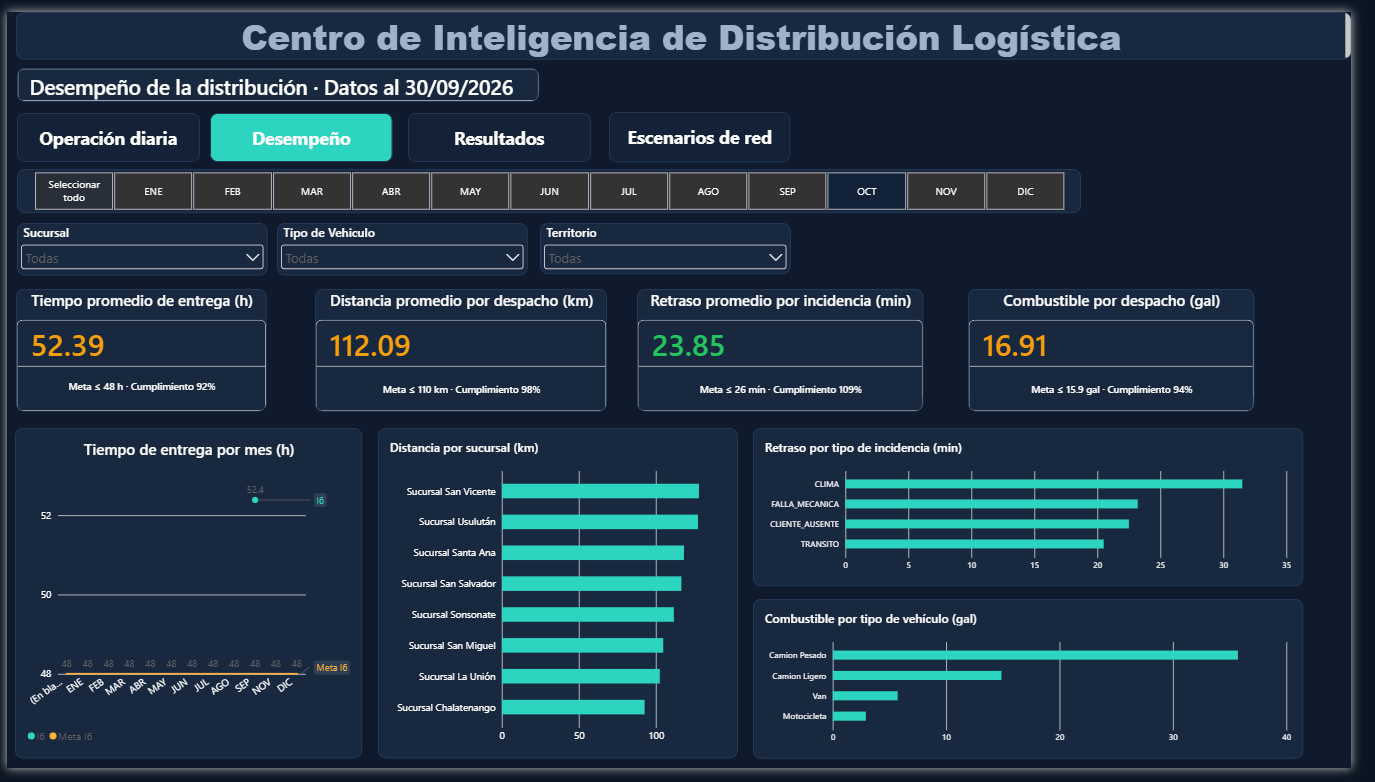

The dashboard page shown, as its layout file describes it:
{"tool":"powerbi","page":{"name":"Desempeño","canvas":[1920,1080],"ordinal":1},"visuals":[{"type":"textbox","box":[12.7,0,1907.9,68.3],"z":0},{"type":"actionButton","box":[14.6,143.6,260.7,70.5],"z":1000},{"type":"actionButton","box":[290,143.6,260.7,70.5],"z":2000},{"type":"actionButton","box":[573.3,143.6,260.7,70.5],"z":3000},{"type":"actionButton","box":[860.5,142.3,259.4,71.8],"z":4000},{"type":"slicer","fields":{"Values":["Meses.Nombre"]},"box":[14.6,224.8,1520.2,62.5],"z":5000},{"type":"cardVisual","fields":{"Data":["Medidas.Subtitulo Desempeño"]},"box":[14,80,746,48],"z":6000},{"type":"slicer","fields":{"Values":["dw_dim_sucursal.nombre"]},"box":[14.6,301.9,358.3,75],"z":7000},{"type":"slicer","fields":{"Values":["dw_dim_vehiculo.tipo"]},"box":[385.7,301.9,358.3,75],"z":8000},{"type":"slicer","fields":{"Values":["dw_dim_territorio.nombre_territorio"]},"box":[760.8,301.9,358.3,73.3],"z":9000},{"type":"cardVisual","title":"Tiempo promedio de entrega (h)","fields":{"Data":["Medidas.I6"]},"box":[12.8,395.7,358.3,175],"z":10000},{"type":"cardVisual","title":"Distancia promedio por despacho (km)","fields":{"Data":["Medidas.I7"]},"box":[440.3,395.7,417.1,175.3],"z":11000},{"type":"cardVisual","title":"Retraso promedio por incidencia (min)","fields":{"Data":["Medidas.I8"]},"box":[900.3,395.7,409.1,175.3],"z":12000},{"type":"cardVisual","title":"Combustible por despacho (gal)\t","fields":{"Data":["Medidas.I9"]},"box":[1372.8,395.7,409.1,175.3],"z":13000},{"type":"lineChart","title":"Tiempo de entrega por mes (h)","fields":{"Category":["Meses.Nombre"],"Y":["Medidas.I6","Medidas.Meta I6"]},"box":[12,594,496,472],"z":14000},{"type":"clusteredBarChart","title":"Distancia por sucursal (km)","fields":{"Category":["dw_dim_sucursal.nombre"],"Y":["Medidas.I7"]},"box":[530,594,514,472],"z":15000},{"type":"clusteredBarChart","title":"Retraso por tipo de incidencia (min)","fields":{"Category":["dw_dim_tipo_incidencia.nombre_tipo"],"Y":["Medidas.I8"]},"box":[1066,594,786,226],"z":16000},{"type":"clusteredBarChart","title":"Combustible por tipo de vehículo (gal)","fields":{"Category":["dw_dim_vehiculo.tipo"],"Y":["Medidas.I9"]},"box":[1066,838,786,228],"z":17000}]}

Visuals, with their boxes in screenshot pixels (x1, y1, x2, y2), scaled from the page's 1920x1080 canvas onto the 1375x782 screenshot:
textbox: {"left": 9, "top": 0, "right": 1374, "bottom": 49}
actionButton: {"left": 10, "top": 104, "right": 197, "bottom": 155}
actionButton: {"left": 208, "top": 104, "right": 394, "bottom": 155}
actionButton: {"left": 411, "top": 104, "right": 597, "bottom": 155}
actionButton: {"left": 616, "top": 103, "right": 802, "bottom": 155}
slicer - Meses.Nombre: {"left": 10, "top": 163, "right": 1099, "bottom": 208}
cardVisual - Medidas.Subtitulo Desempeño: {"left": 10, "top": 58, "right": 544, "bottom": 93}
slicer - dw_dim_sucursal.nombre: {"left": 10, "top": 219, "right": 267, "bottom": 273}
slicer - dw_dim_vehiculo.tipo: {"left": 276, "top": 219, "right": 533, "bottom": 273}
slicer - dw_dim_territorio.nombre_territorio: {"left": 545, "top": 219, "right": 801, "bottom": 272}
"Tiempo promedio de entrega (h)" cardVisual: {"left": 9, "top": 287, "right": 266, "bottom": 413}
"Distancia promedio por despacho (km)" cardVisual: {"left": 315, "top": 287, "right": 614, "bottom": 413}
"Retraso promedio por incidencia (min)" cardVisual: {"left": 645, "top": 287, "right": 938, "bottom": 413}
"Combustible por despacho (gal)	" cardVisual: {"left": 983, "top": 287, "right": 1276, "bottom": 413}
"Tiempo de entrega por mes (h)" lineChart: {"left": 9, "top": 430, "right": 364, "bottom": 772}
"Distancia por sucursal (km)" clusteredBarChart: {"left": 380, "top": 430, "right": 748, "bottom": 772}
"Retraso por tipo de incidencia (min)" clusteredBarChart: {"left": 763, "top": 430, "right": 1326, "bottom": 594}
"Combustible por tipo de vehículo (gal)" clusteredBarChart: {"left": 763, "top": 607, "right": 1326, "bottom": 772}
